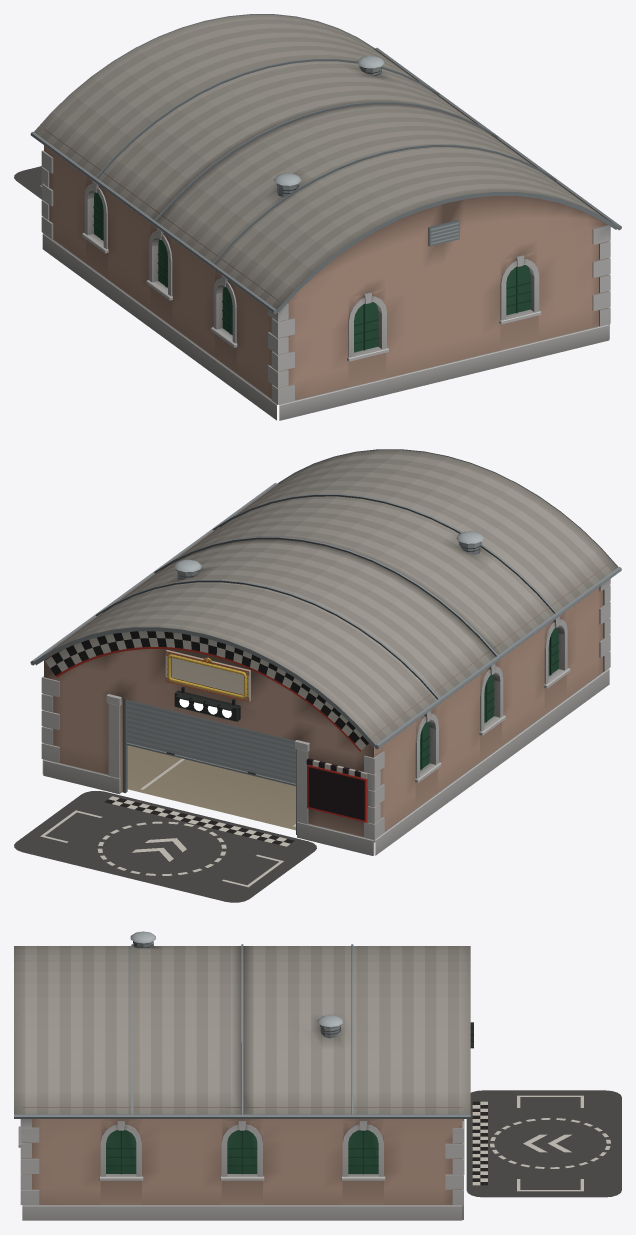
The picture shows the model from 3 angles, top to bottom: view 1: azimuth 30°, elevation 25°; view 2: azimuth 150°, elevation 25°; view 3: azimuth 270°, elevation 25°; orthographic projection. The views are drawn at different scales.
Parts seen in each view (by area): view 1: static_karting, static_startgrid; view 2: static_karting, static_startgrid, live_door; view 3: static_karting, static_startgrid.
Part boxes in pixels (<box>): static_karting: <box>30,14,621,420</box>; static_startgrid: <box>14,166,42,199</box>; static_karting: <box>30,449,621,855</box>; static_startgrid: <box>14,791,316,902</box>; live_door: <box>126,700,295,786</box>; static_karting: <box>14,931,473,1220</box>; static_startgrid: <box>466,1090,621,1197</box>.
Bounding box in the file's own units: 13.73 × 6.99 × 22.1.
